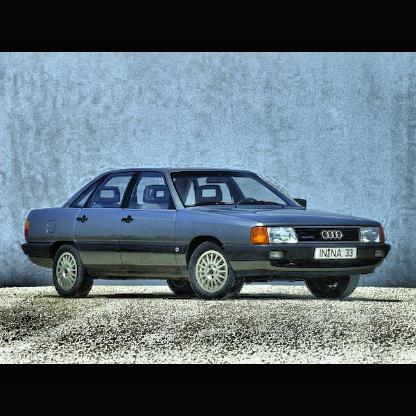Audi 100 Sedan 1994: (22, 165, 392, 315)
